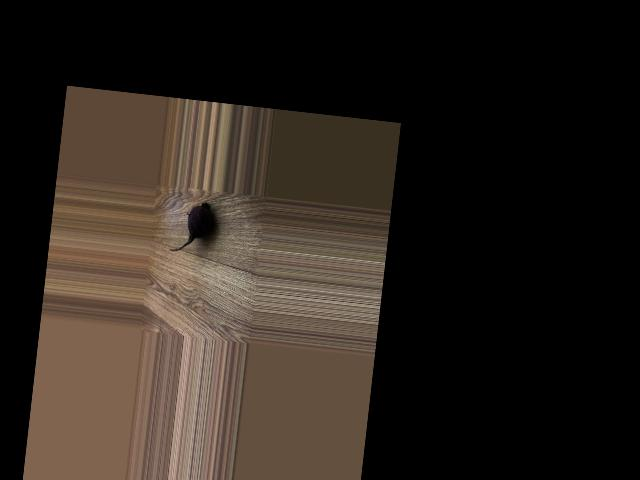beet: (169, 200, 214, 256)
